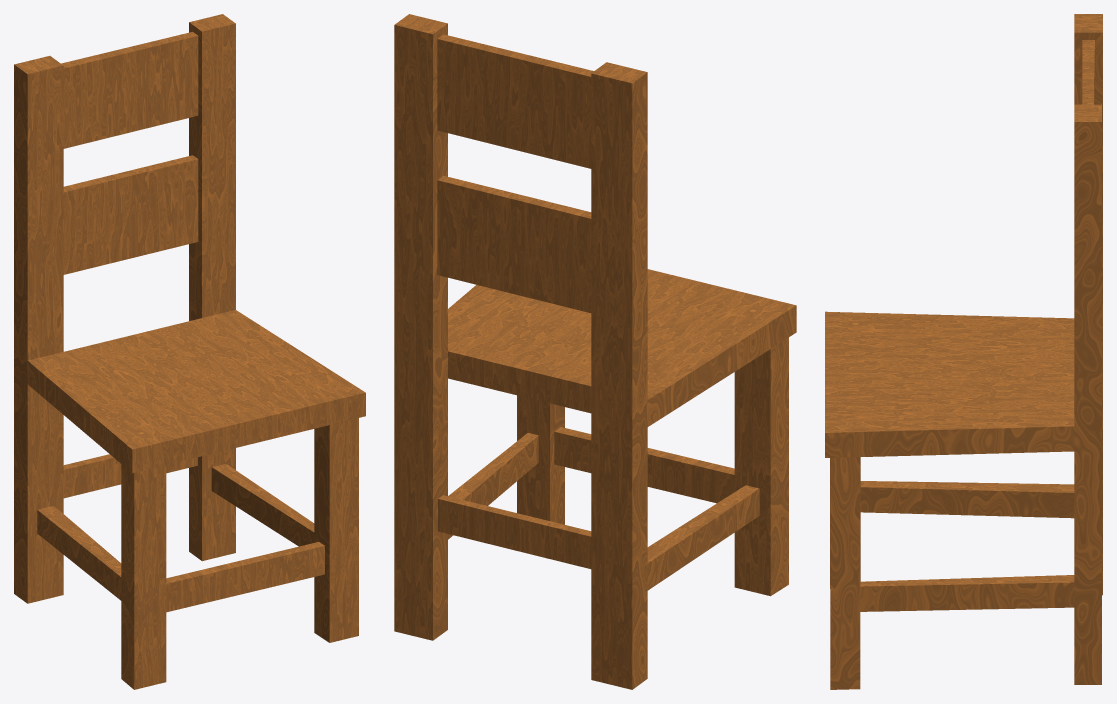
Rendered from r_Silla.fbx.
The picture shows the model from 3 angles, left to right: view 1: azimuth 30°, elevation 25°; view 2: azimuth 150°, elevation 25°; view 3: azimuth 270°, elevation 25°; orthographic projection. The views are drawn at different scales.
Visible parts, largest first — view 1: Silla; view 2: Silla; view 3: Silla.
Boxes of the visible parts, <box> form: Silla: <box>14,14,365,689</box>; Silla: <box>394,14,796,689</box>; Silla: <box>825,14,1102,689</box>.
Bounding box in the file's own units: 92 × 200 × 89.18.
